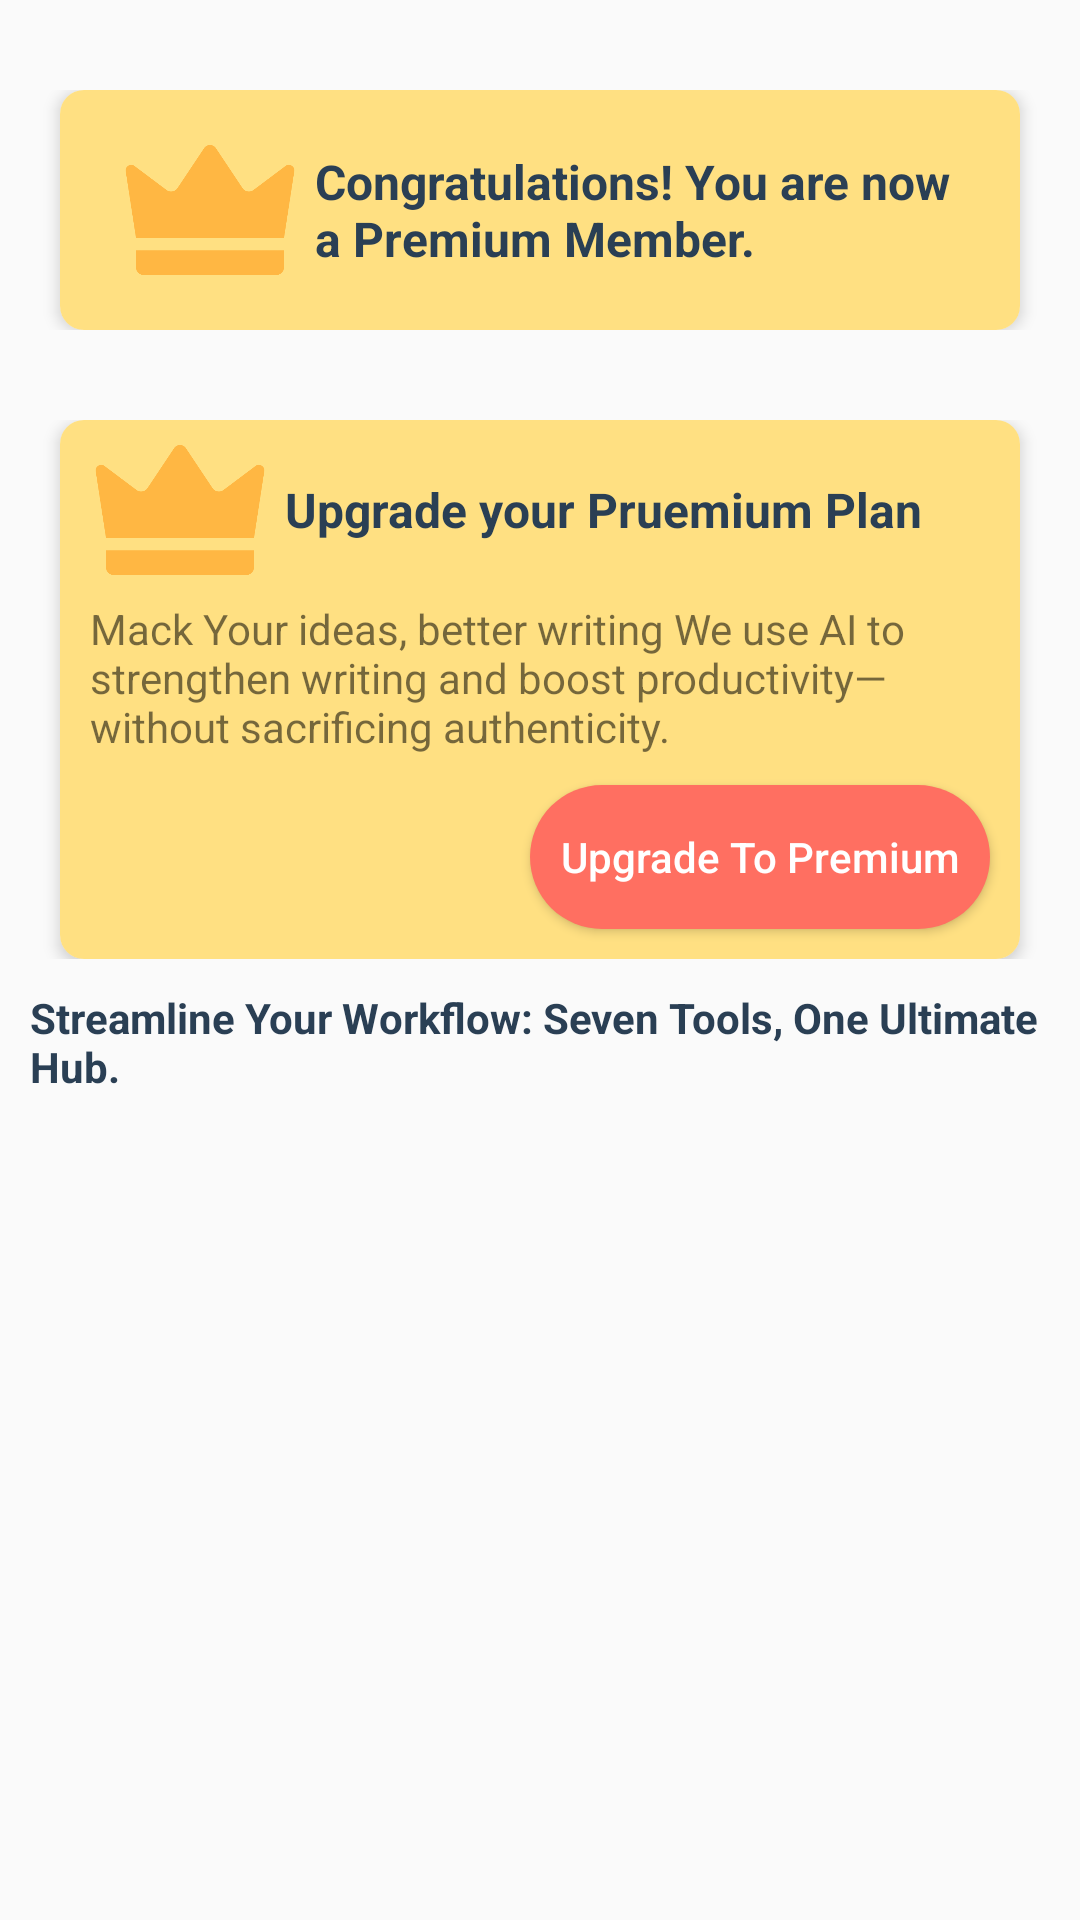

Icon bounding boxes for this 1080 x 1920 phone screenshot, format (x1, y1, x2, y2):
crown: (126, 145, 294, 275), (96, 445, 264, 575)
